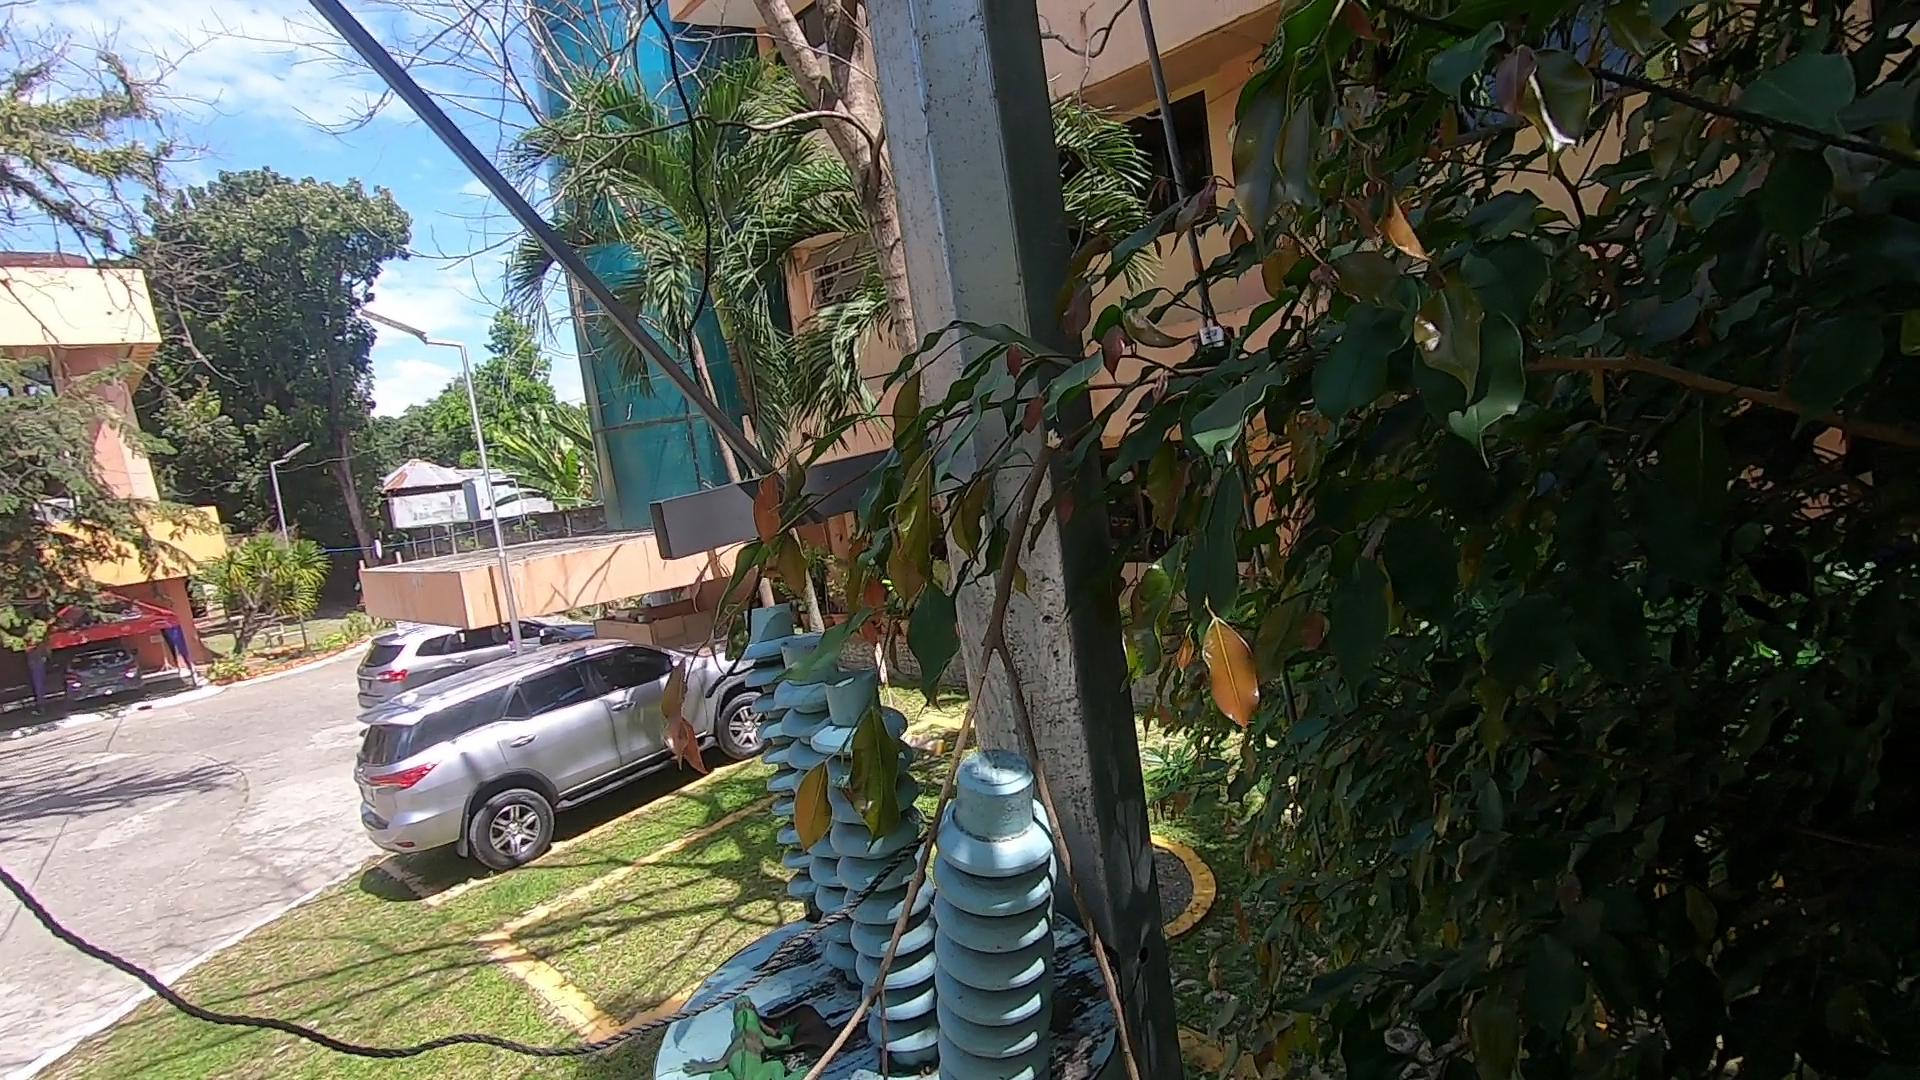leaf: (766, 985, 872, 1055)
tree branch: (771, 398, 1189, 1080)
